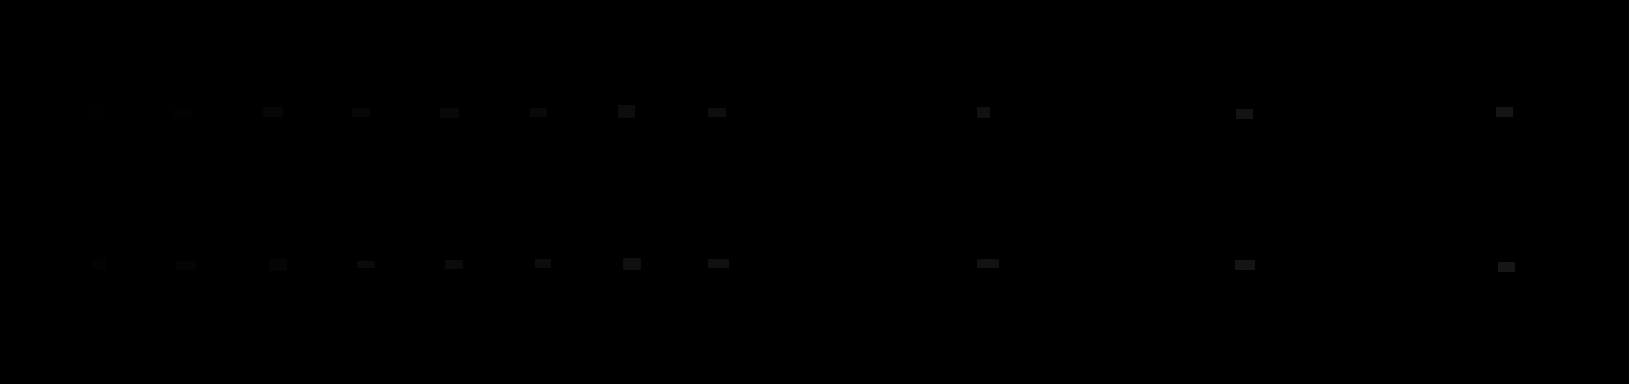light: (618, 105, 635, 118), (263, 107, 283, 117), (269, 259, 287, 271), (623, 258, 641, 270), (176, 260, 196, 270), (440, 108, 459, 118), (977, 259, 999, 268), (1235, 260, 1255, 270), (173, 108, 191, 118), (707, 259, 729, 268), (707, 108, 726, 117), (1236, 109, 1253, 119), (1496, 107, 1513, 117), (1498, 262, 1515, 272), (352, 108, 370, 117), (530, 108, 548, 117), (445, 260, 463, 269), (977, 107, 990, 118), (92, 259, 106, 270), (89, 107, 102, 117), (535, 259, 551, 268), (357, 260, 375, 268)
